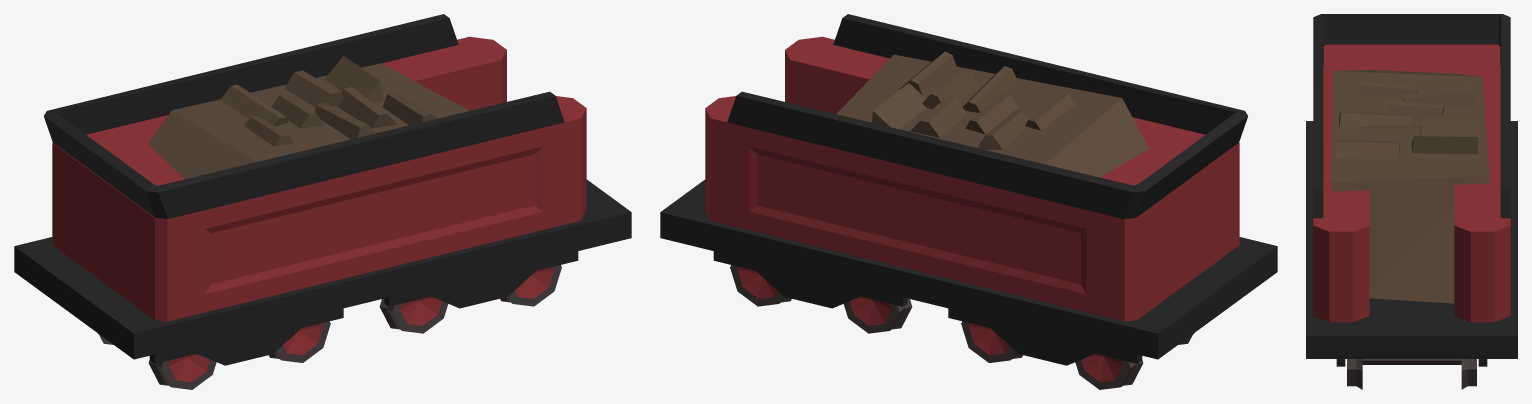
The model's file is rover#001.glb.
3 renders of one model, left to right at view 1: azimuth 30°, elevation 25°; view 2: azimuth 150°, elevation 25°; view 3: azimuth 270°, elevation 25°, orthographic. The views are drawn at different scales.
Parts seen in each view (by area): view 1: huitugou_2103_02; view 2: huitugou_2103_02; view 3: huitugou_2103_02.
Boxes of the visible parts, x1=… form: huitugou_2103_02: x1=14, y1=14, x2=631, y2=389; huitugou_2103_02: x1=660, y1=14, x2=1277, y2=389; huitugou_2103_02: x1=1306, y1=14, x2=1517, y2=389.
Size of the model in its own units: 6.4 by 2.85 by 2.66.
